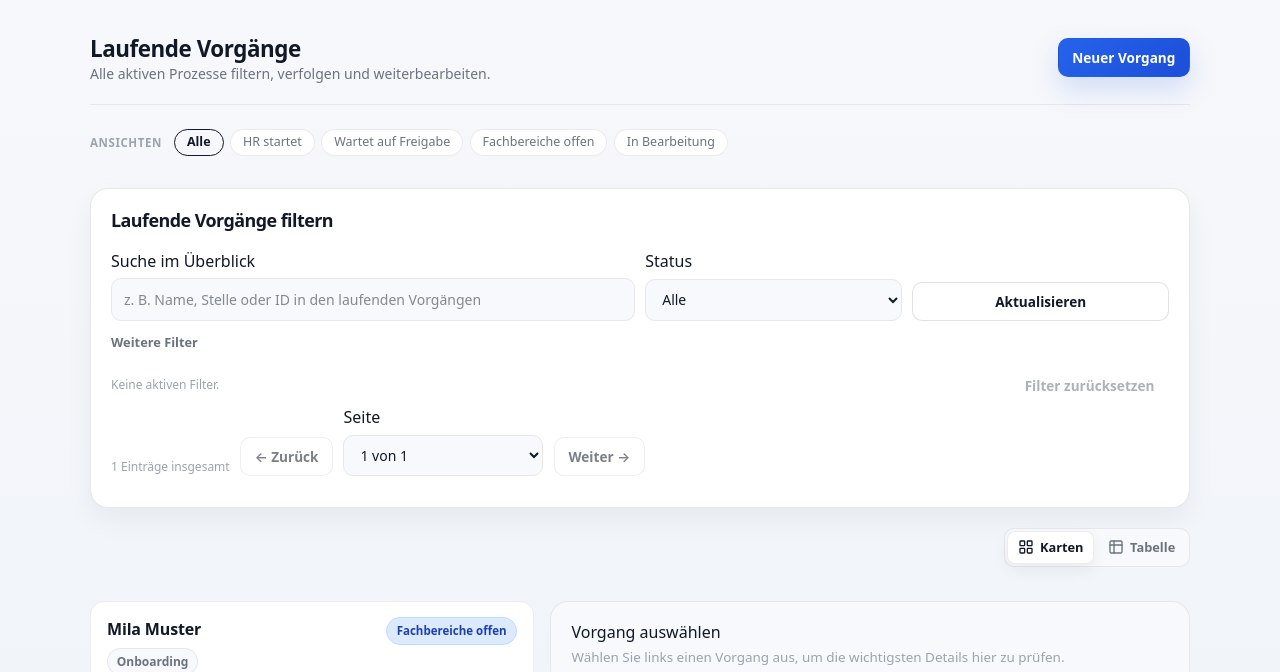
it: WorkflowListPage › offers a table mode for workflow scanning
Check: the heading "Mila Muster" is shown, box [107, 617, 201, 642]
Click the button "Tabelle".
click(1142, 548)  # box [1098, 532, 1186, 564]
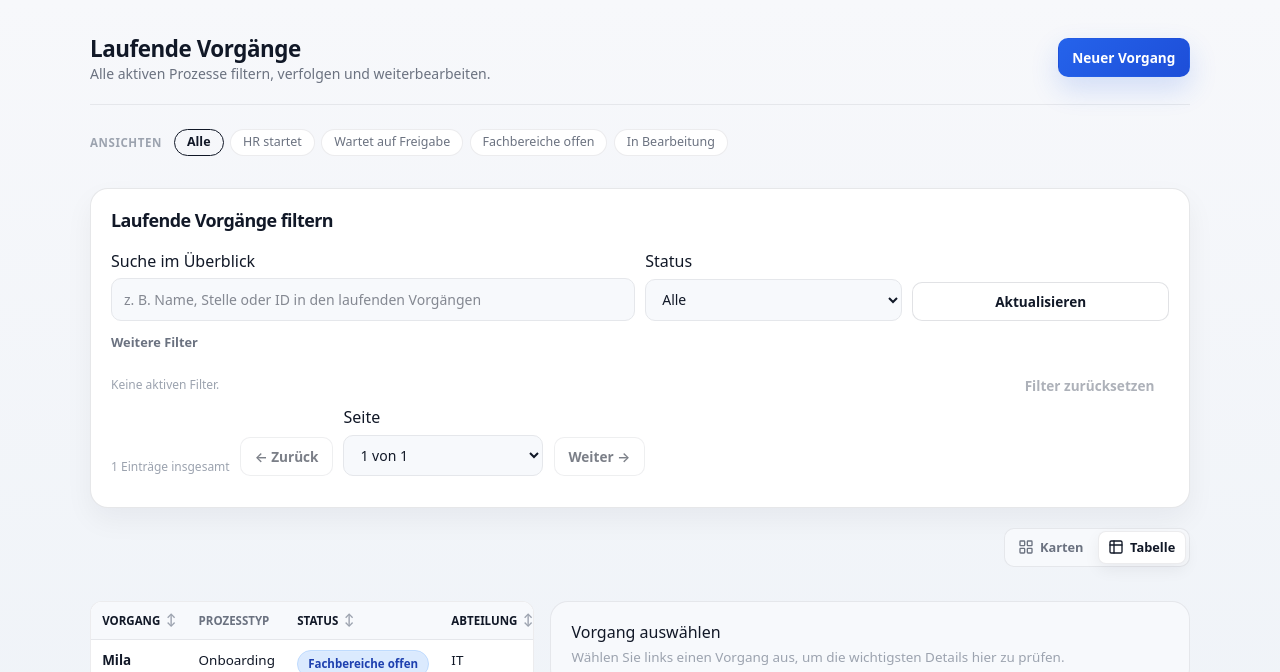
Check: the button "Vorgang" is shown, box [102, 611, 176, 630]
